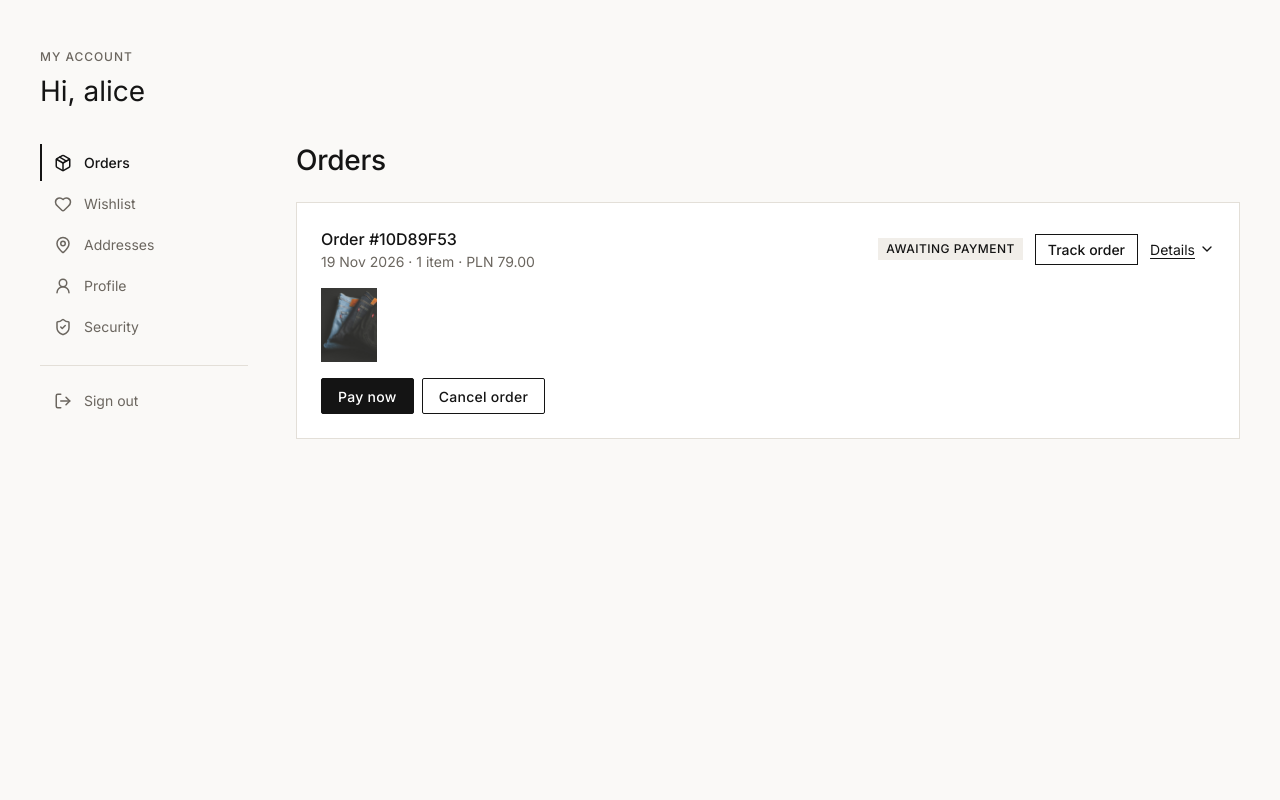
Scenario: AccountPage › shows order details and starts payment for a pending order
The width and height of the screenshot is (1280, 800).
Expected: the text "Order #10D89F53" is shown, [321,229,457,249]
Expected: the text "Awaiting payment" is shown, [878,238,1023,260]
Click the button "Details".
click(1182, 249)  # box [1150,235,1215,264]
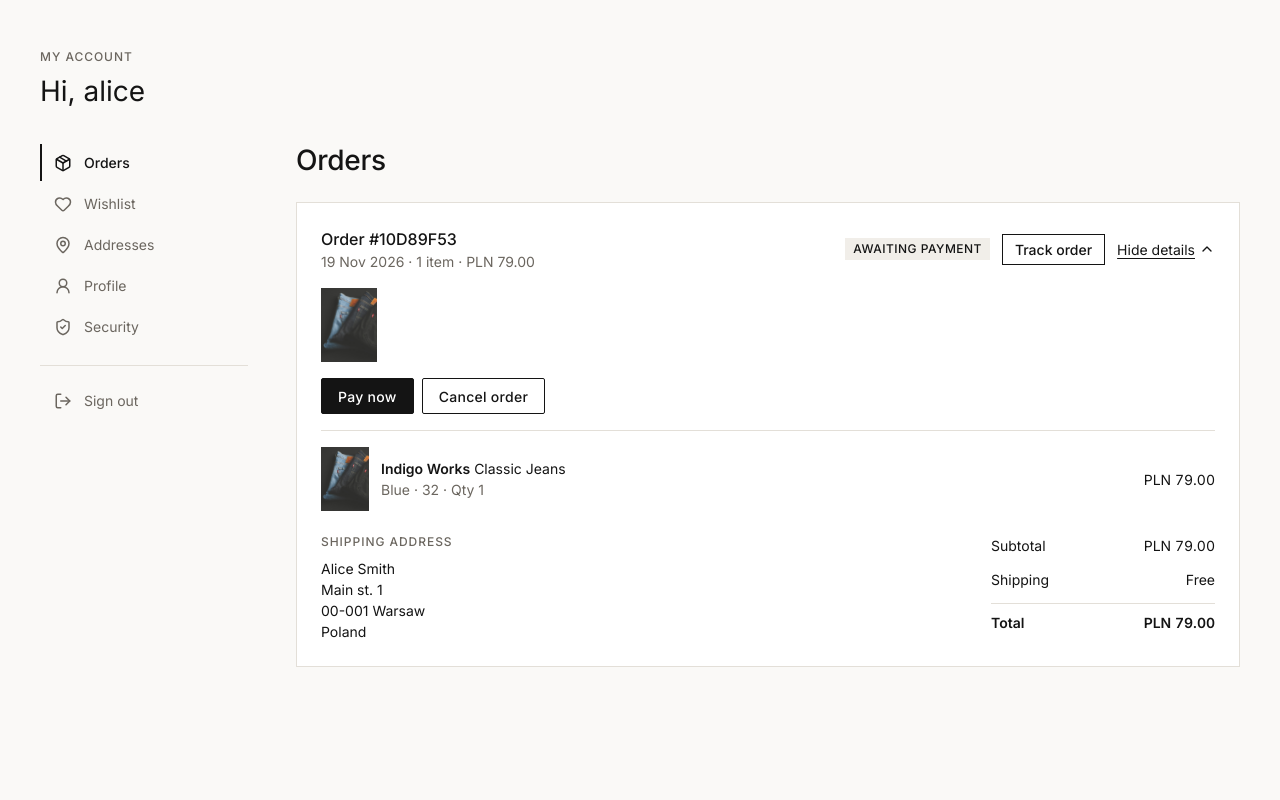
Expected: the button "Hide details" is expanded, [1117,235,1215,264]
Expected: the heading "Shipping address" is shown, [321,535,453,550]
Click the button "Pay now".
click(367, 396)  # box [321,378,414,414]
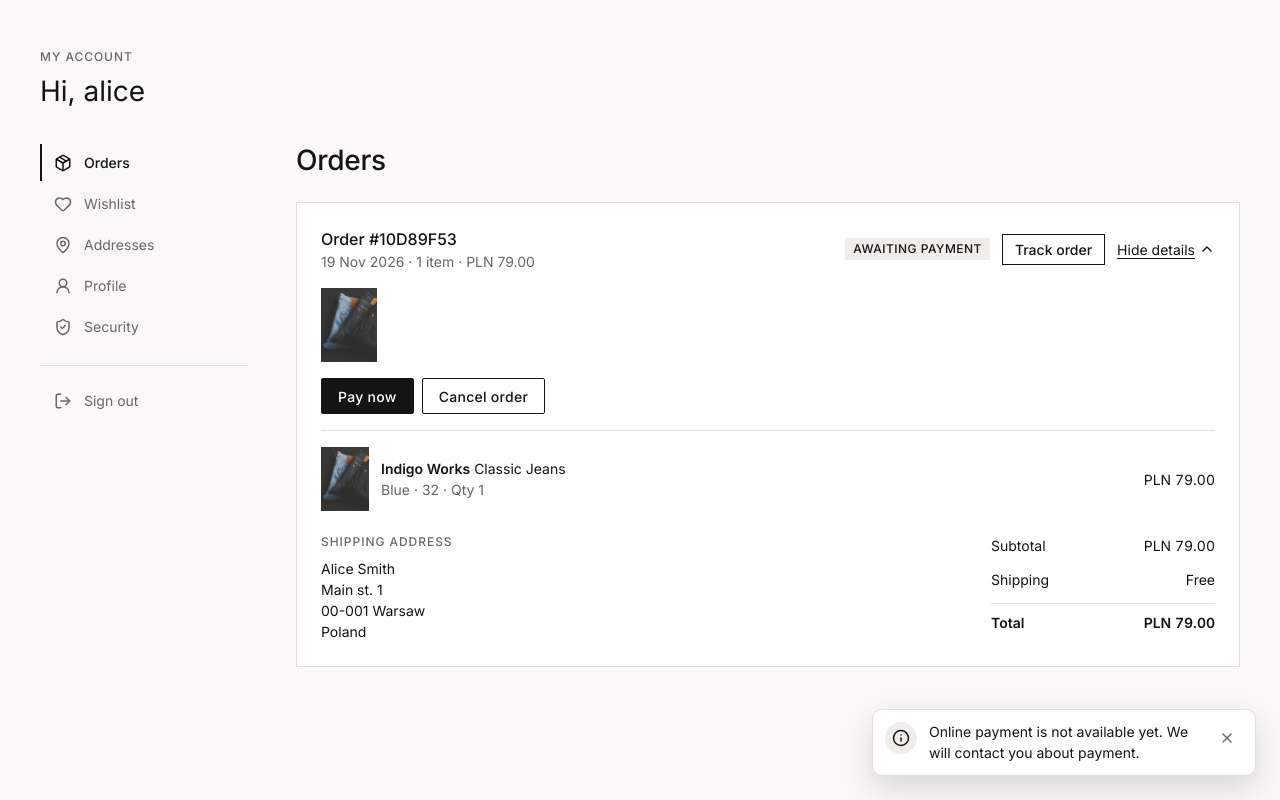
Expected: the text "Online payment is not available" is shown, [929,723,1188,761]
